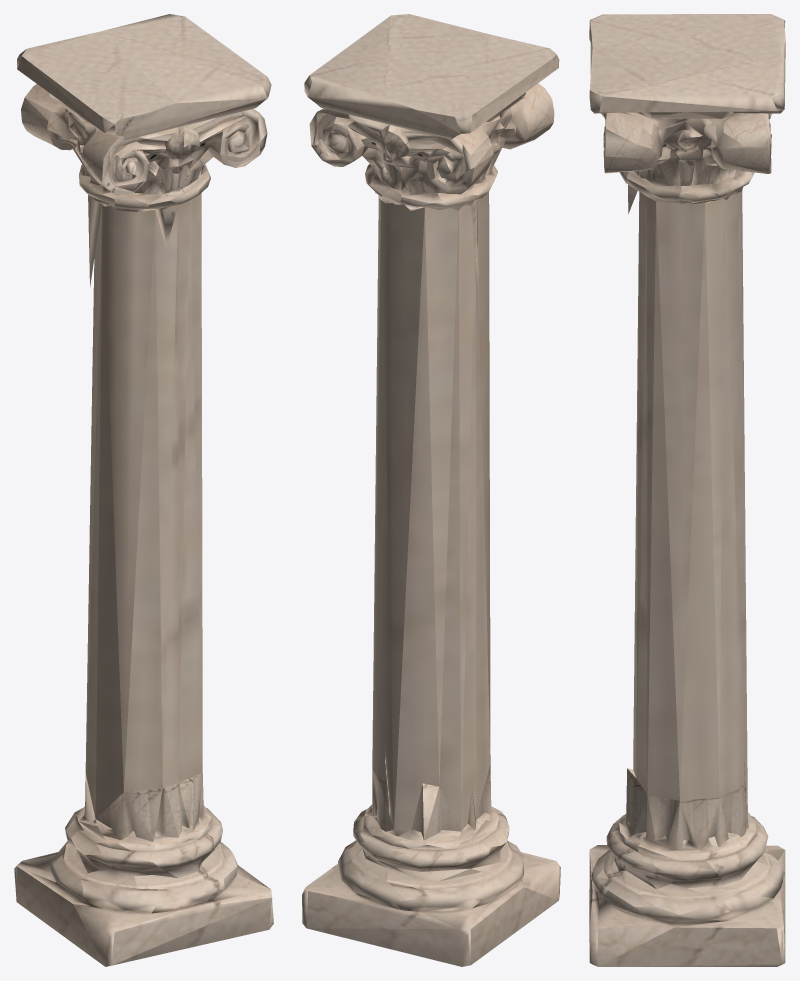
File: marble-column.glb
3 views of the same model, side by side, from view 1: azimuth 30°, elevation 25°; view 2: azimuth 150°, elevation 25°; view 3: azimuth 270°, elevation 25° (orthographic). The views are drawn at different scales.
Visible parts, largest first — view 1: marble-column; view 2: marble-column; view 3: marble-column.
Boxes of the visible parts, x1,y1,x2,y2 form: marble-column: (14,14,273,966); marble-column: (302,14,560,966); marble-column: (589,14,785,966).
Size of the model in its own units: 0.3917 by 1.9 by 0.3887.
Materials: 1 (1 with a texture image).
